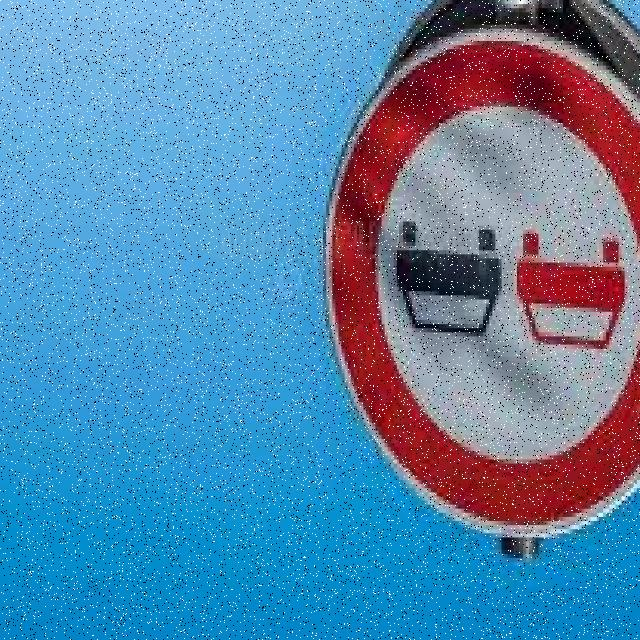no_passing: (326, 24, 640, 550)
